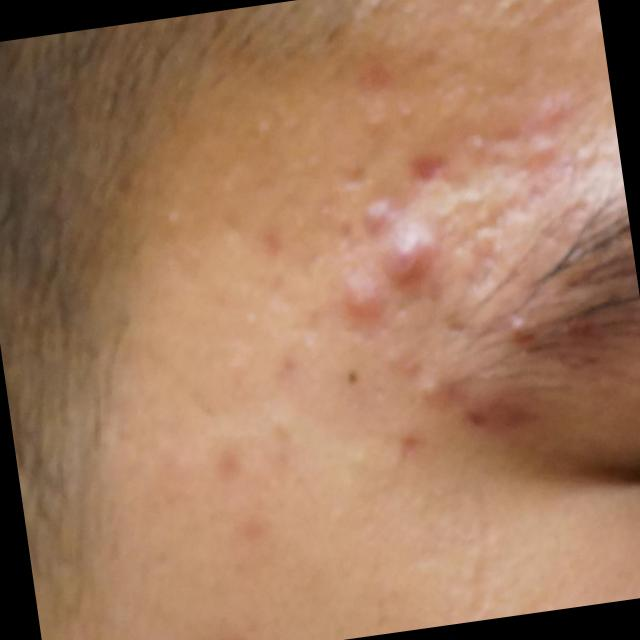blackhead: (345, 370, 358, 386)
nodule: (382, 223, 434, 285), (338, 268, 388, 329)
